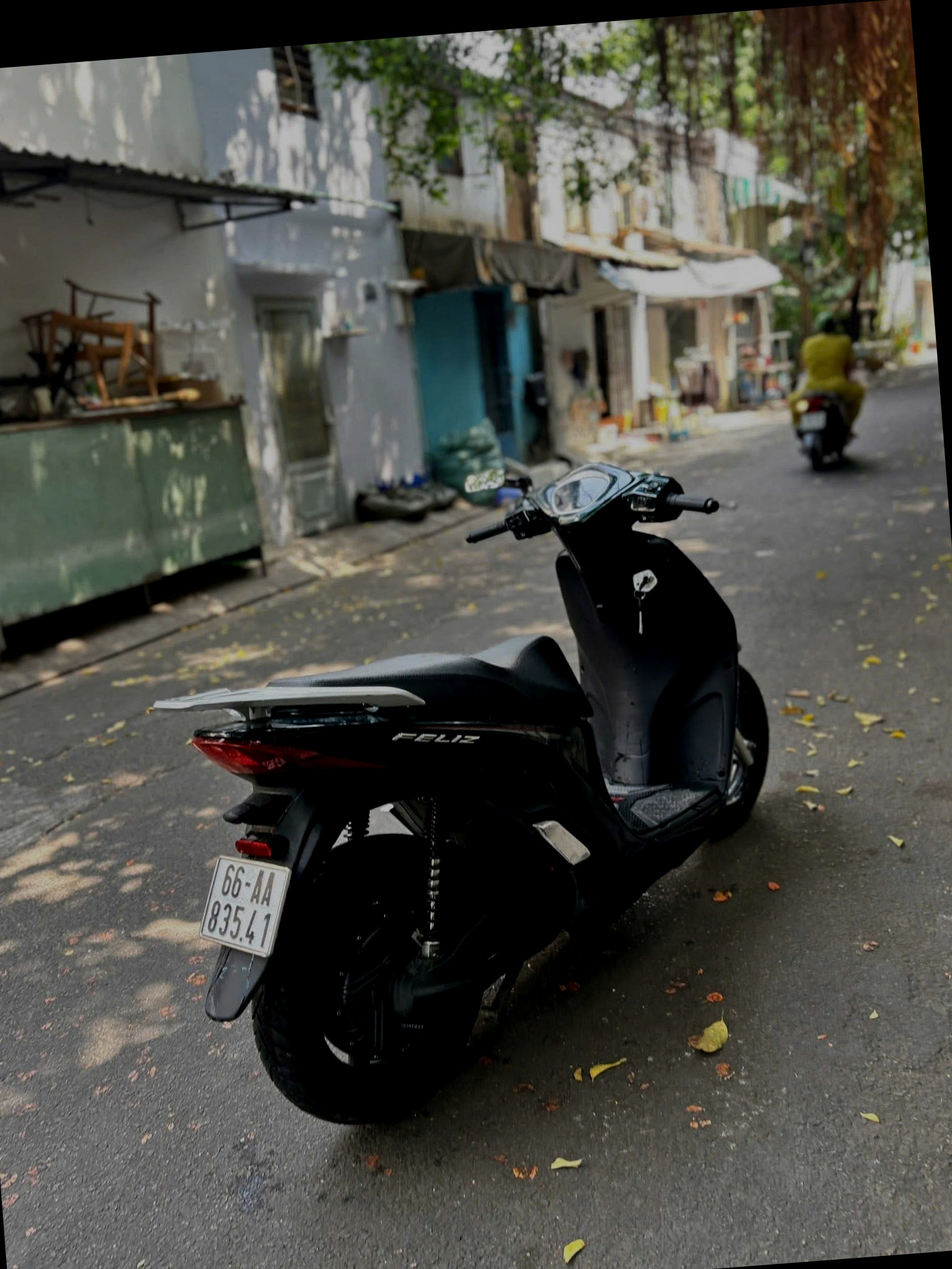Bien-so: (195, 820, 290, 934)
